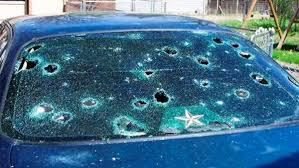Rear-windscreen-Damage: (6, 24, 298, 140)
